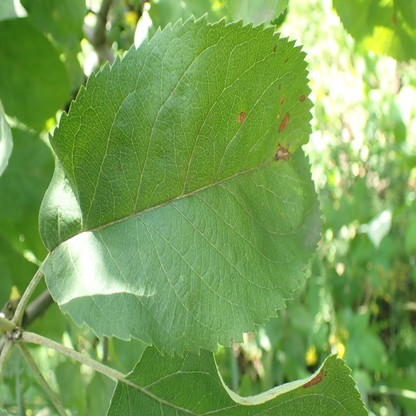frogeye_leaf_spot: (273, 142, 292, 161), (304, 371, 322, 389), (278, 112, 289, 133), (237, 110, 246, 123), (298, 94, 305, 102), (280, 95, 285, 106), (273, 44, 277, 52), (285, 57, 289, 62), (279, 83, 281, 89), (277, 114, 279, 119)
